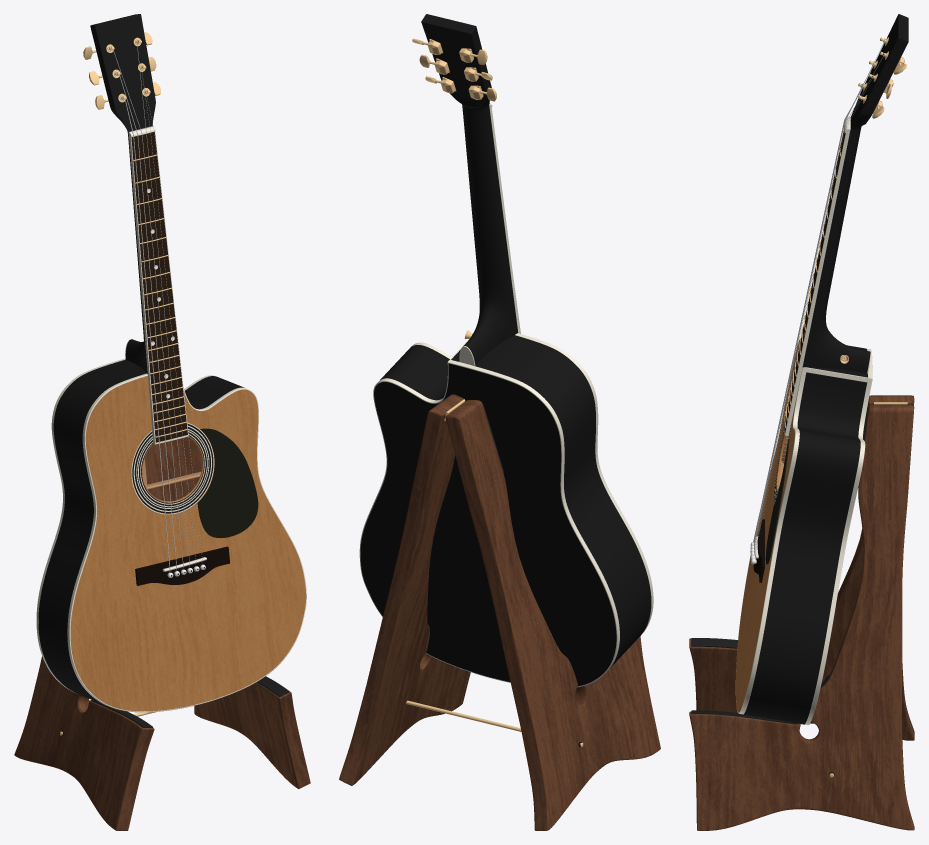
File: Acoustic Guitar001.fbx
The picture shows the model from 3 angles, left to right: view 1: azimuth 30°, elevation 25°; view 2: azimuth 150°, elevation 25°; view 3: azimuth 270°, elevation 25°; orthographic projection. The views are drawn at different scales.
Visible parts, largest first — view 1: Front board, Legs, Sideboards, Fretboard, Neck, Pickguard, Binding_front and back, Strings, Backboard, Rossete, Bridge, Fretboard_Binding (+3 smaller); view 2: Legs, Backboard, Sideboards, Neck, Binding_front and back, Tunner_Houseing, Fretboard_Binding; view 3: Legs, Sideboards, Neck, Front board, Binding_front and back, Strings, Fretboard_Binding, Fretboard, Pading.001, Pickguard, Fretboard_Frets, Bridge.
Boxes of the visible parts, <box> form: Front board: <box>70,376,306,711</box>; Legs: <box>14,656,310,830</box>; Sideboards: <box>38,359,244,704</box>; Fretboard: <box>131,132,187,442</box>; Neck: <box>90,14,155,373</box>; Pickguard: <box>197,428,258,538</box>; Binding_front and back: <box>36,358,306,712</box>; Strings: <box>109,40,202,572</box>; Backboard: <box>144,436,202,501</box>; Rossete: <box>131,422,214,514</box>; Bridge: <box>135,546,229,585</box>; Fretboard_Binding: <box>129,131,188,444</box>; Legs: <box>339,394,660,830</box>; Backboard: <box>360,363,616,686</box>; Sideboards: <box>380,335,651,667</box>; Neck: <box>421,14,518,364</box>; Binding_front and back: <box>359,333,653,687</box>; Tunner_Houseing: <box>427,39,483,99</box>; Fretboard_Binding: <box>489,108,520,333</box>; Legs: <box>689,395,914,830</box>; Sideboards: <box>743,345,867,724</box>; Neck: <box>802,14,908,373</box>; Front board: <box>736,340,799,712</box>; Binding_front and back: <box>735,338,872,725</box>; Strings: <box>753,38,885,559</box>; Fretboard_Binding: <box>784,133,849,435</box>; Fretboard: <box>784,131,845,432</box>; Pading.001: <box>691,638,796,724</box>; Pickguard: <box>765,439,789,564</box>; Fretboard_Frets: <box>784,143,840,428</box>; Bridge: <box>753,519,764,582</box>.
Size of the model in its own units: 36.53 by 106 by 28.62.
